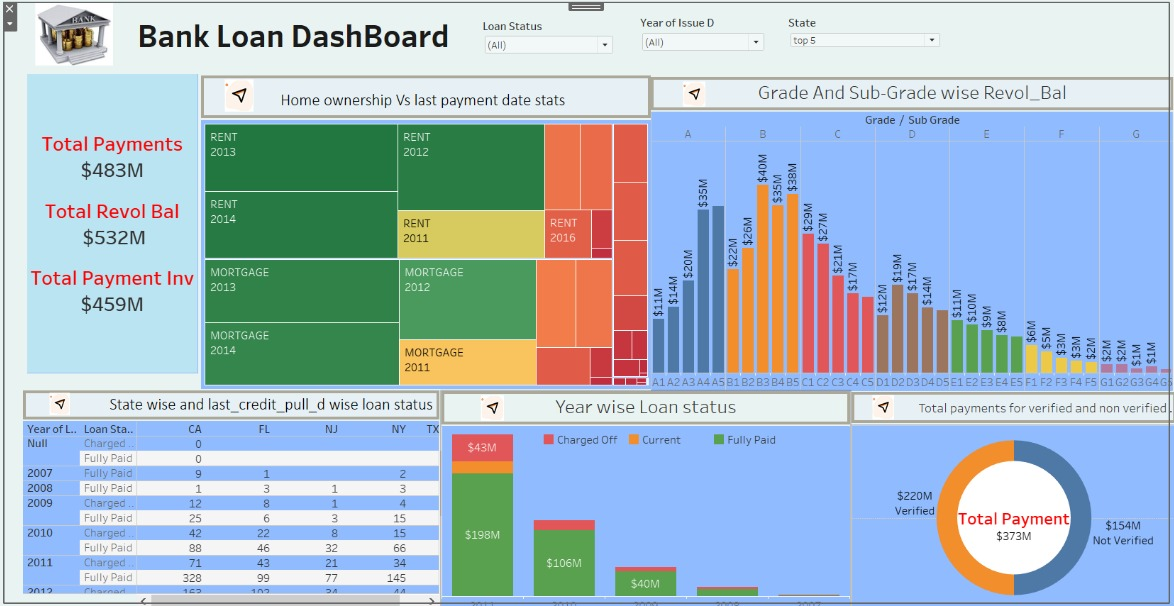

The page's visual inventory and layout, read from the dashboard file:
{"tool":"tableau","page":{"name":"main dashboard","canvas":[1000,1000],"units":"permille","ordinal":5},"visuals":[{"type":"image","param":"Image/bank image.jpeg","box":[30.8,7,66.4,105.7]},{"type":"text","box":[115.9,8.1,269.8,104.5]},{"type":"text","box":[4.8,9.3,990.3,981.4]},{"type":"filter","title":"Sheet 2","param":"[federated.06s9tm3165sf39151pg6807wf26h].[yr:issue_d:ok]","box":[545.6,29,107.4,63.9]},{"type":"parameter","param":"[Parameters].[Parameter 1]","box":[671.7,29,131,75.5]},{"type":"filter","title":"Sheet 2","param":"[federated.06s9tm3165sf39151pg6807wf26h].[none:loan_status:nk]","box":[411.6,34.8,112.9,59.2]},{"type":"worksheet","title":"total","mark":"Automatic","box":[24.1,125.4,146.7,507.6]},{"type":"worksheet","title":"Sheet 5","mark":"Automatic","box":[172,127.8,382.6,513.4]},{"type":"worksheet","title":"Sheet 2","mark":"Automatic","rows":["revol_bal"],"cols":["grade","sub_grade"],"box":[554.6,130.1,445.4,514.5]},{"type":"dashboard-object","box":[178.6,133.6,51.3,53.4]},{"type":"dashboard-object","box":[564.3,137.1,54.9,41.8]},{"type":"worksheet","title":"Sheet 4","mark":"Automatic","rows":["last_credit_pull_d","loan_status"],"cols":["addr_state"],"box":[20.5,643.4,366.9,357.7]},{"type":"worksheet","title":"Sheet 3","mark":"Pie","rows":["Calculation_644859203898187776","Calculation_644859203898187776"],"box":[725.4,645.8,277,358.9]},{"type":"dashboard-object","box":[24.7,646.9,54.3,37.2]},{"type":"dashboard-object","box":[389.3,650.4,60.4,43]},{"type":"dashboard-object","box":[729.6,650.4,45.3,40.6]},{"type":"legend","title":"Sheet 1","param":"[federated.06s9tm3165sf39151pg6807wf26h].[none:loan_status:nk]","box":[461.7,712,246.8,32.5]}]}

Visuals, with their boxes on the dashboard's canvas, which has no fixed pixel size, in thousandths of its width and height (x1, y1, x2, y2). These are canvas units, not pixel positions in the 1174x606 screenshot, which may show the page scaled, cropped or inside an application window:
image: region(31, 7, 97, 113)
text: region(116, 8, 386, 113)
text: region(5, 9, 995, 991)
"Sheet 2" filter: region(546, 29, 653, 93)
parameter: region(672, 29, 803, 104)
"Sheet 2" filter: region(412, 35, 524, 94)
"total" worksheet: region(24, 125, 171, 633)
"Sheet 5" worksheet: region(172, 128, 555, 641)
"Sheet 2" worksheet: region(555, 130, 1000, 645)
dashboard-object: region(179, 134, 230, 187)
dashboard-object: region(564, 137, 619, 179)
"Sheet 4" worksheet: region(20, 643, 387, 1001)
"Sheet 3" worksheet (Pie marks): region(725, 646, 1002, 1005)
dashboard-object: region(25, 647, 79, 684)
dashboard-object: region(389, 650, 450, 693)
dashboard-object: region(730, 650, 775, 691)
"Sheet 1" legend: region(462, 712, 708, 744)
